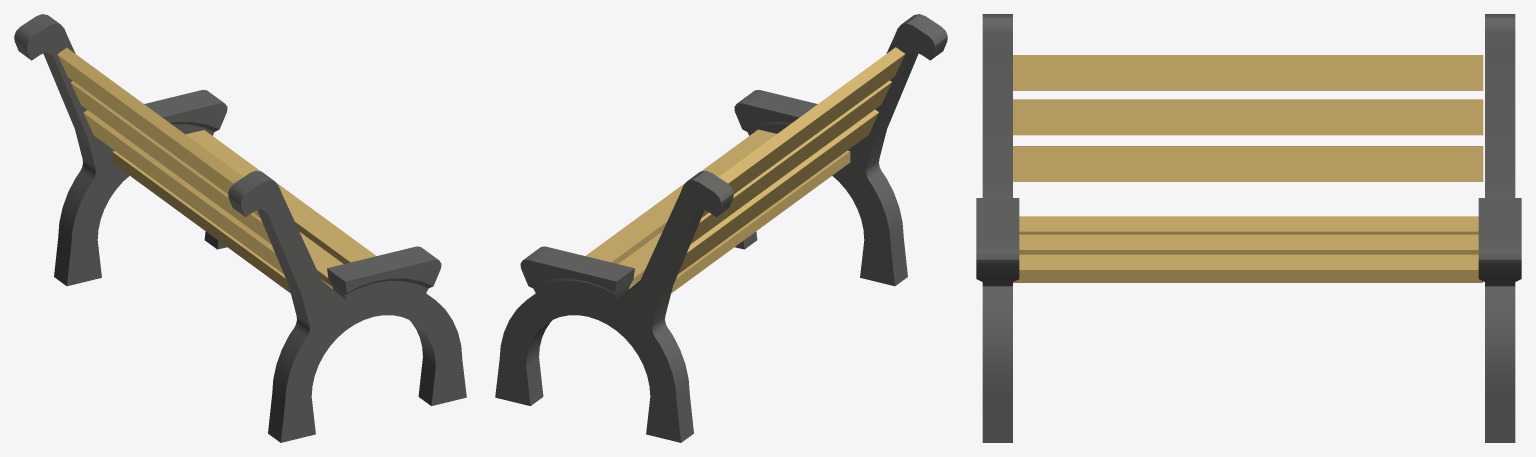
Rendered from BenchObj.fbx.
3 views of the same model, side by side, from view 1: azimuth 30°, elevation 25°; view 2: azimuth 150°, elevation 25°; view 3: azimuth 270°, elevation 25° (orthographic). The views are drawn at different scales.
Visible parts, largest first — view 1: BenchLeg01, BenchLeg02, BenchSlat01, BenchSlat03, BenchSlat06, BenchSlat02, BenchSlat04, BenchSlat05; view 2: BenchLeg02, BenchLeg01, BenchSlat01, BenchSlat03, BenchSlat06, BenchSlat02, BenchSlat04, BenchSlat05; view 3: BenchSlat02, BenchSlat01, BenchSlat03, BenchLeg01, BenchLeg02, BenchSlat06, BenchSlat05, BenchSlat04.
Part boxes in pixels (box(x1,y1,x2,y2)): BenchLeg01: box(228, 170, 466, 442); BenchLeg02: box(14, 14, 227, 286); BenchSlat01: box(57, 47, 260, 217); BenchSlat03: box(83, 110, 283, 274); BenchSlat06: box(186, 130, 376, 263); BenchSlat02: box(70, 81, 271, 243); BenchSlat04: box(112, 151, 332, 293); BenchSlat05: box(299, 232, 343, 287); BenchLeg02: box(495, 170, 733, 442); BenchLeg01: box(734, 14, 947, 286); BenchSlat01: box(701, 47, 905, 217); BenchSlat03: box(678, 109, 878, 274); BenchSlat06: box(585, 129, 776, 263); BenchSlat02: box(690, 80, 891, 243); BenchSlat04: box(629, 150, 850, 293); BenchSlat05: box(618, 232, 662, 287); BenchSlat02: box(1013, 99, 1483, 135); BenchSlat01: box(1013, 55, 1483, 90); BenchSlat03: box(1013, 146, 1483, 181); BenchLeg01: box(976, 14, 1019, 442); BenchLeg02: box(1478, 14, 1521, 442); BenchSlat06: box(1013, 254, 1483, 282); BenchSlat05: box(1019, 234, 1478, 254); BenchSlat04: box(1019, 216, 1478, 234).
Bounding box in the file's own units: 3.11 × 3.5 × 5.54.
